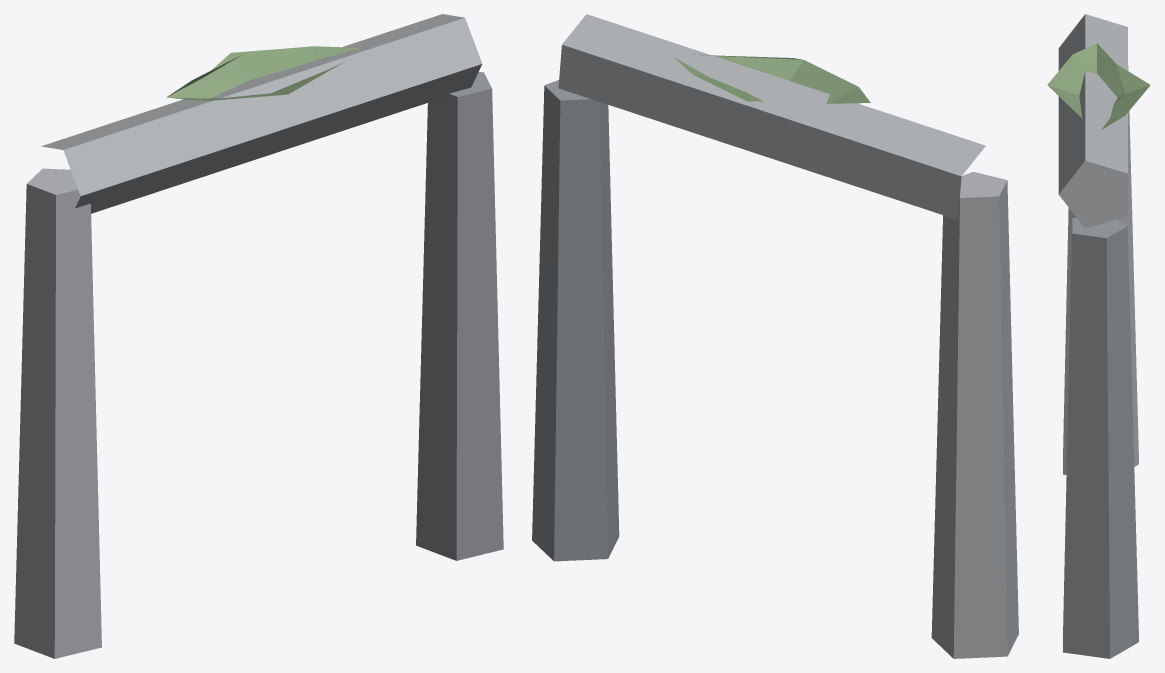
The model's file is arch_rock_v14.glb.
3 views of the same model, side by side, from view 1: azimuth 30°, elevation 25°; view 2: azimuth 150°, elevation 25°; view 3: azimuth 270°, elevation 25° (orthographic). The views are drawn at different scales.
Parts seen in each view (by area): view 1: lod0; view 2: lod0; view 3: lod0.
Part boxes in pixels (x1,y1,x2,y2): lod0: (14, 14, 503, 658); lod0: (532, 14, 1018, 658); lod0: (1047, 14, 1150, 658).
Size of what is drawn, in the model's own units: 2.62 by 2.81 by 0.5417.
